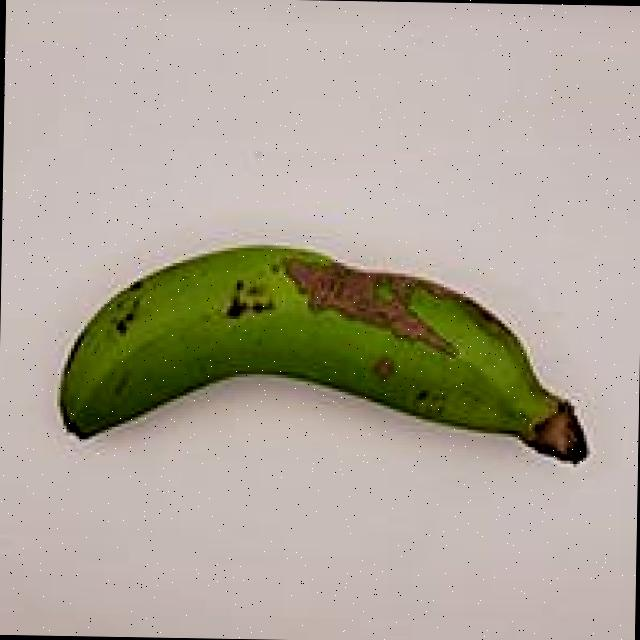Raw: (42, 192, 600, 541)
